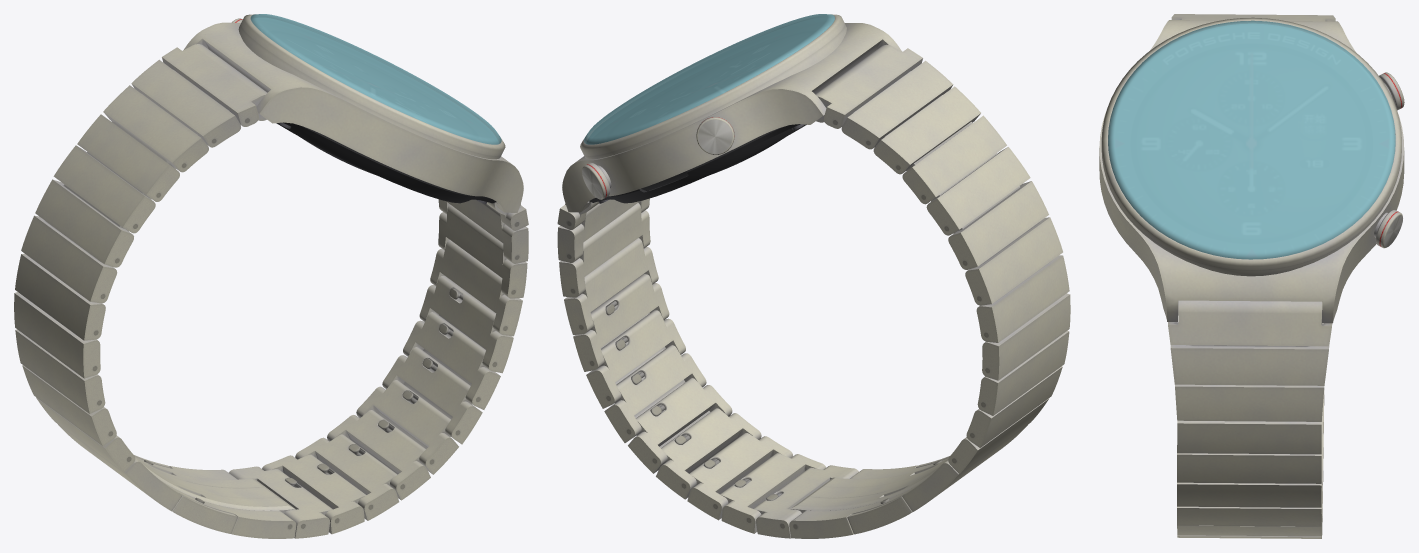
The model's file is huawei_watch_gt2.glb.
The picture shows the model from 3 angles, left to right: view 1: azimuth 30°, elevation 25°; view 2: azimuth 150°, elevation 25°; view 3: azimuth 270°, elevation 25°; orthographic projection. The views are drawn at different scales.
Parts seen in each view (by area): view 1: huaweishoubiao_low_4, huaweishoubiao_boli_2; view 2: huaweishoubiao_low_4, huaweishoubiao_boli_2; view 3: huaweishoubiao_low_4, huaweishoubiao_boli_2.
Boxes of the visible parts, x1,y1,x2,y2 form: huaweishoubiao_low_4: (14, 14, 528, 538); huaweishoubiao_boli_2: (250, 14, 501, 144); huaweishoubiao_low_4: (557, 14, 1070, 538); huaweishoubiao_boli_2: (584, 14, 834, 144); huaweishoubiao_low_4: (1099, 14, 1404, 538); huaweishoubiao_boli_2: (1108, 20, 1395, 259).
Size of the model in its own units: 0.6964 by 0.7149 by 0.4048.
Materials: 2 (2 with a texture image).
